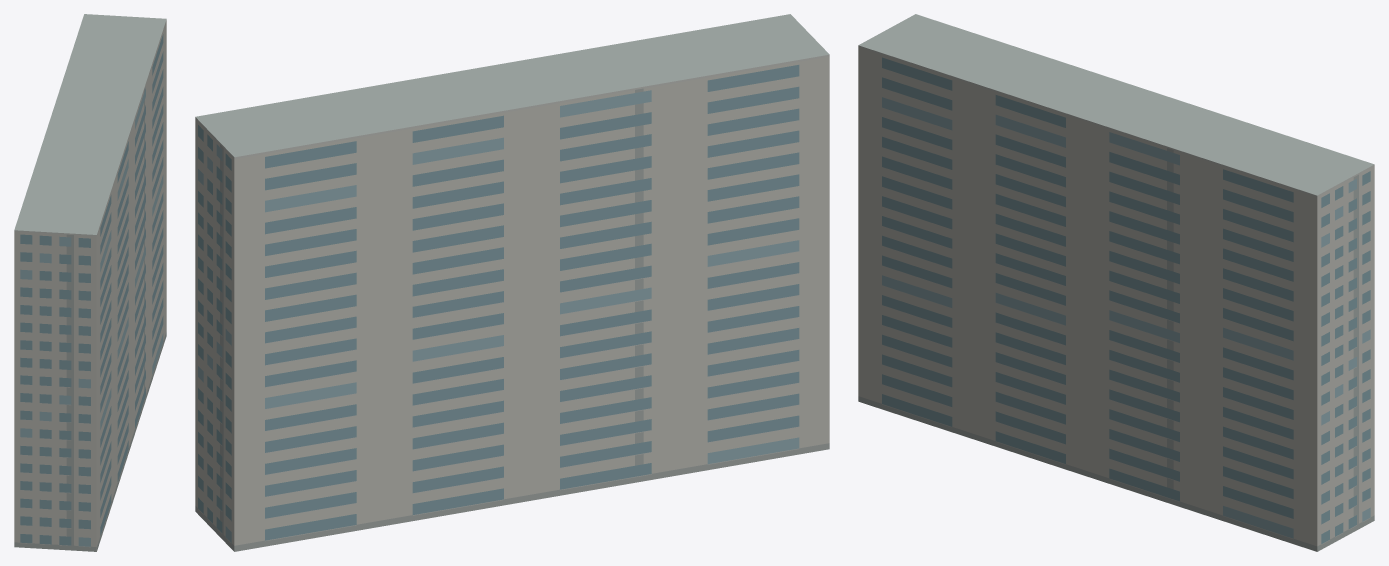
File: residential-1655a3a8-ad1e-4218-962a-915791814e07.glb
3 views of the same model, side by side, from view 1: azimuth 30°, elevation 25°; view 2: azimuth 150°, elevation 25°; view 3: azimuth 270°, elevation 25° (orthographic). The views are drawn at different scales.
Parts seen in each view (by area): view 1: residential-1655a3a8-ad1e-4218-962a-915791814e07.tmp; view 2: residential-1655a3a8-ad1e-4218-962a-915791814e07.tmp; view 3: residential-1655a3a8-ad1e-4218-962a-915791814e07.tmp.
Part boxes in pixels (<box>): residential-1655a3a8-ad1e-4218-962a-915791814e07.tmp: <box>14,14,166,551</box>; residential-1655a3a8-ad1e-4218-962a-915791814e07.tmp: <box>195,14,829,551</box>; residential-1655a3a8-ad1e-4218-962a-915791814e07.tmp: <box>858,14,1374,551</box>.
Size of the model in its own units: 60.02 by 54.9 by 72.11.
